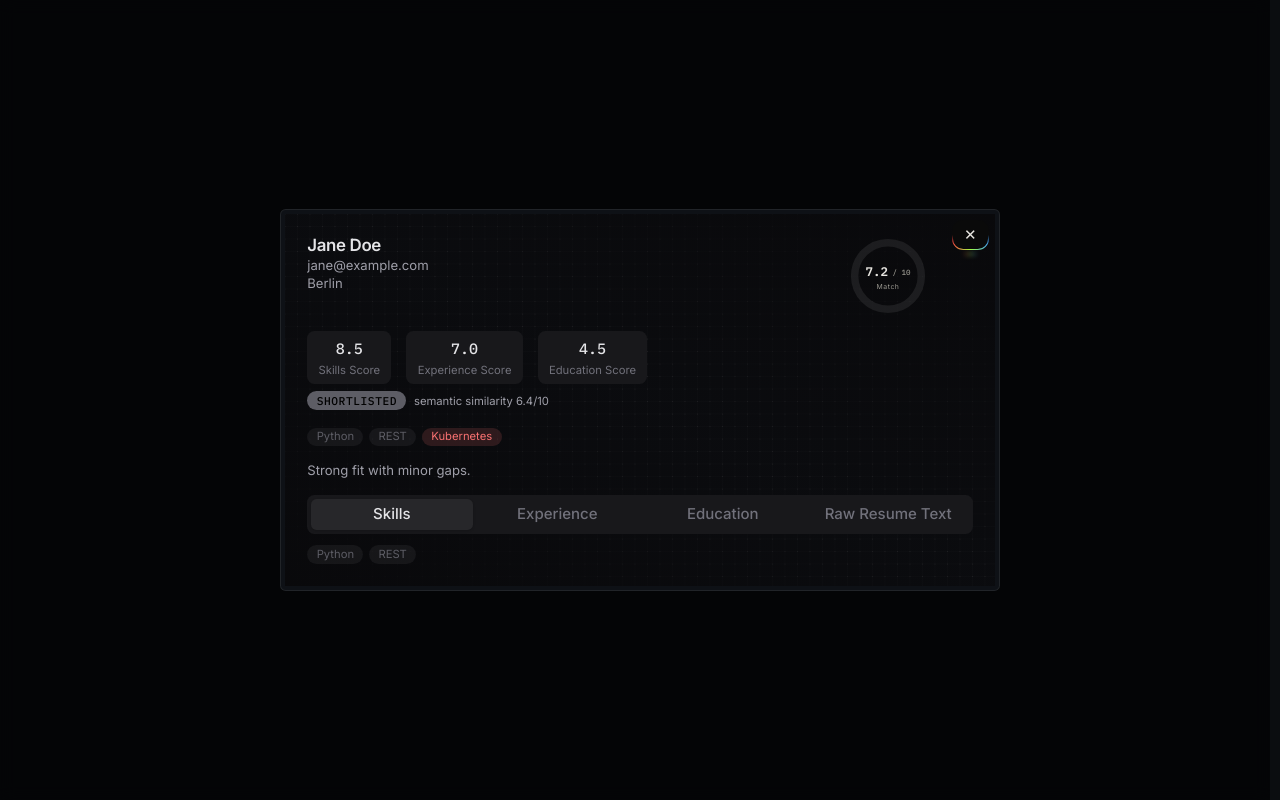
Test: CandidateDetail › shows breakdown, contact, and skills tab content when open
This screenshot has width=1280, height=800.
Expected: the dialog "Jane Doe" is shown, [280, 209, 1000, 591]
Expected: the text "7.2" is shown, [865, 263, 911, 279]
Click the button "Experience". click: (557, 514)
box: [476, 499, 638, 530]
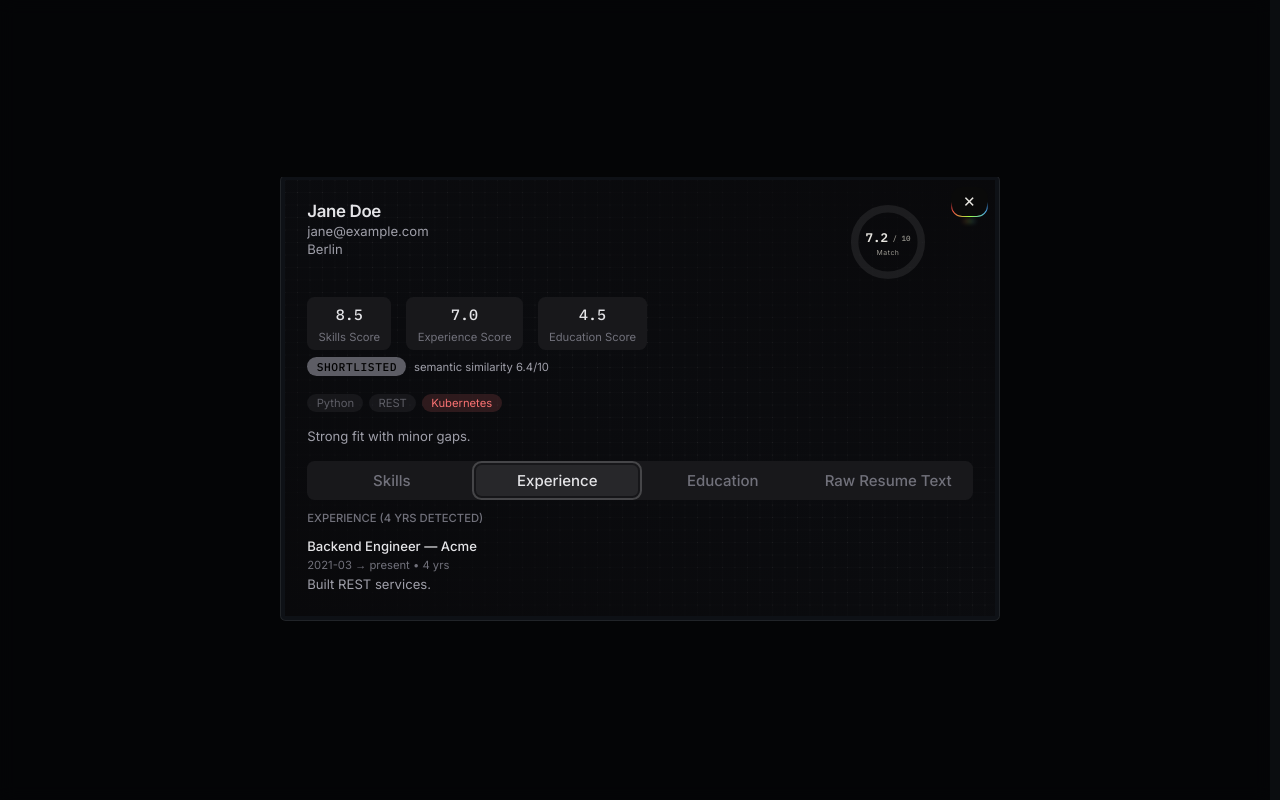
Expected: the text "EXPERIENCE (4 YRS DETECTED)" is shown, [307, 511, 483, 525]
Expected: the text "Built REST services." is shown, [307, 576, 431, 592]
